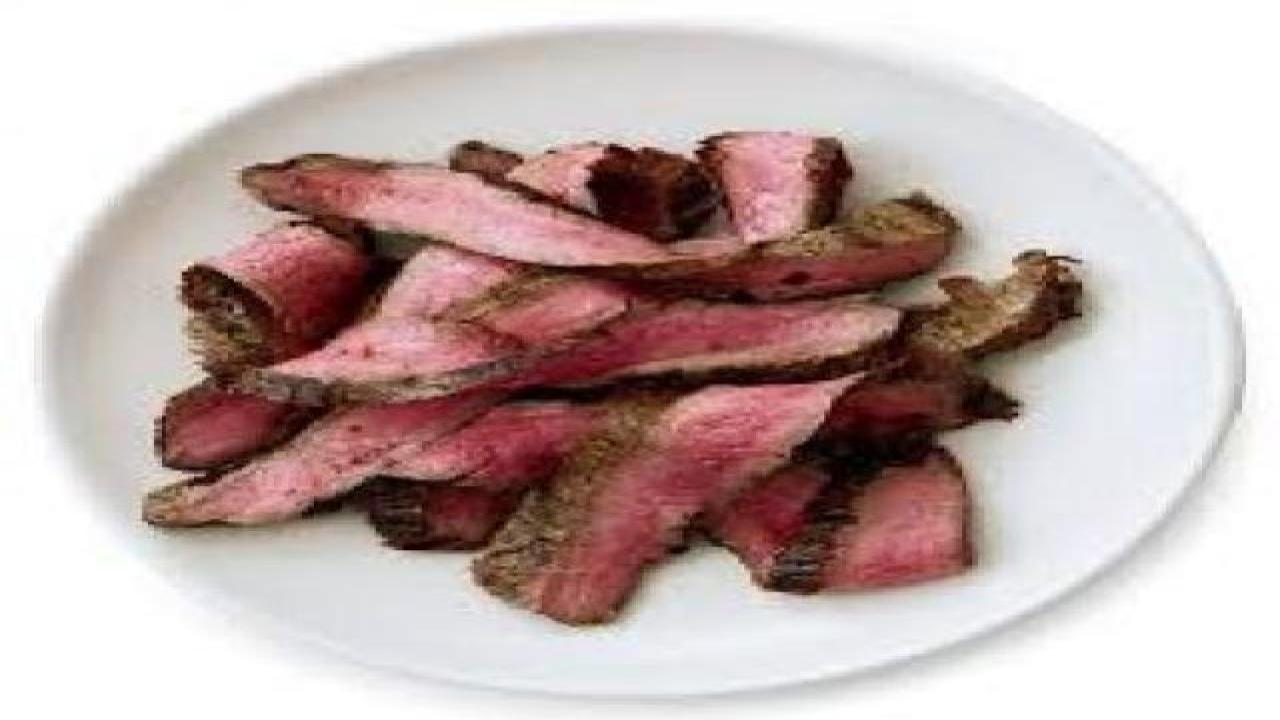raw: (91, 89, 1017, 680)
